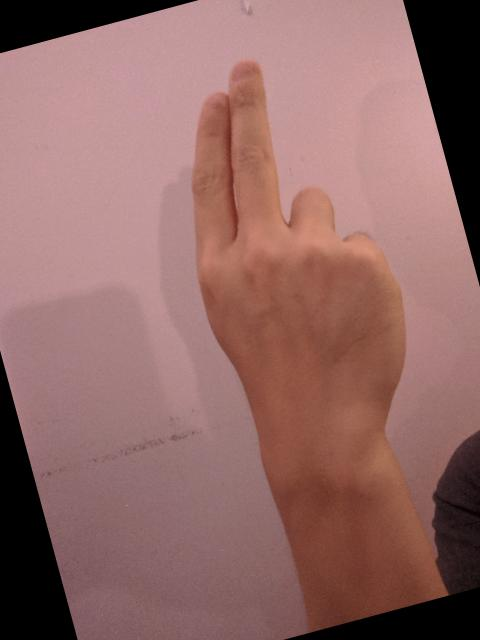U: (138, 31, 437, 462)
